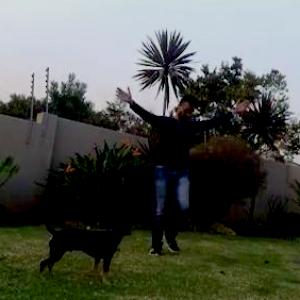takeoff: (114, 86, 250, 243)
